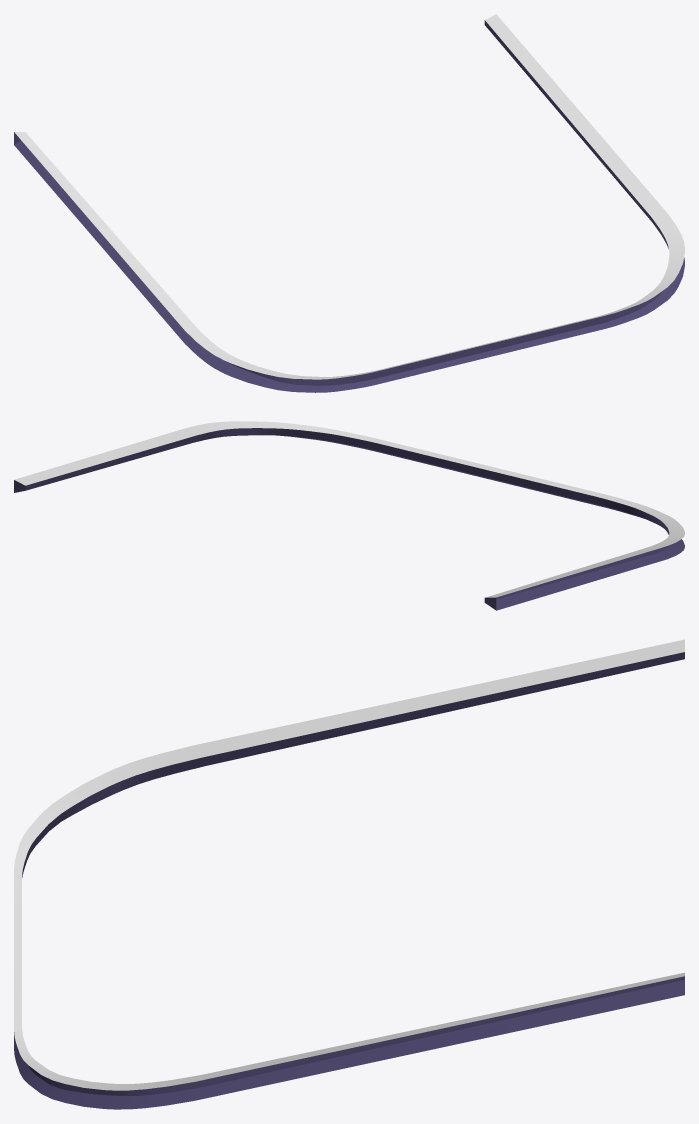
File: Mh_Ceiling_01_RimLight.fbx
3 views of the same model, one above another, from view 1: azimuth 30°, elevation 25°; view 2: azimuth 150°, elevation 25°; view 3: azimuth 270°, elevation 25° (orthographic). The views are drawn at different scales.
Visible parts, largest first — view 1: Mh_Ceiling_01_RimLight; view 2: Mh_Ceiling_01_RimLight; view 3: Mh_Ceiling_01_RimLight.
Boxes of the visible parts, x1,y1,x2,y2 form: Mh_Ceiling_01_RimLight: [14, 14, 684, 392]; Mh_Ceiling_01_RimLight: [14, 421, 684, 610]; Mh_Ceiling_01_RimLight: [14, 639, 684, 1109].
Bounding box in the file's own units: 2000 × 446 × 1684.
